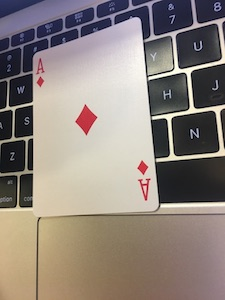AceOfDiamonds: (24, 16, 163, 220)
